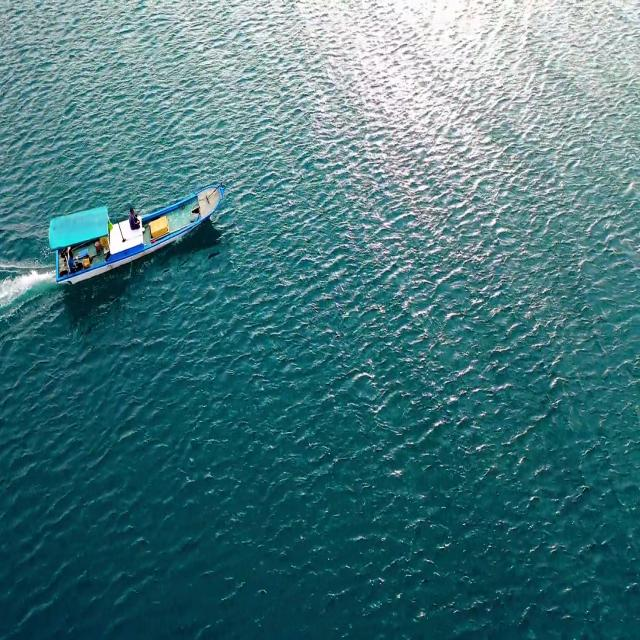ship: (46, 170, 226, 302)
